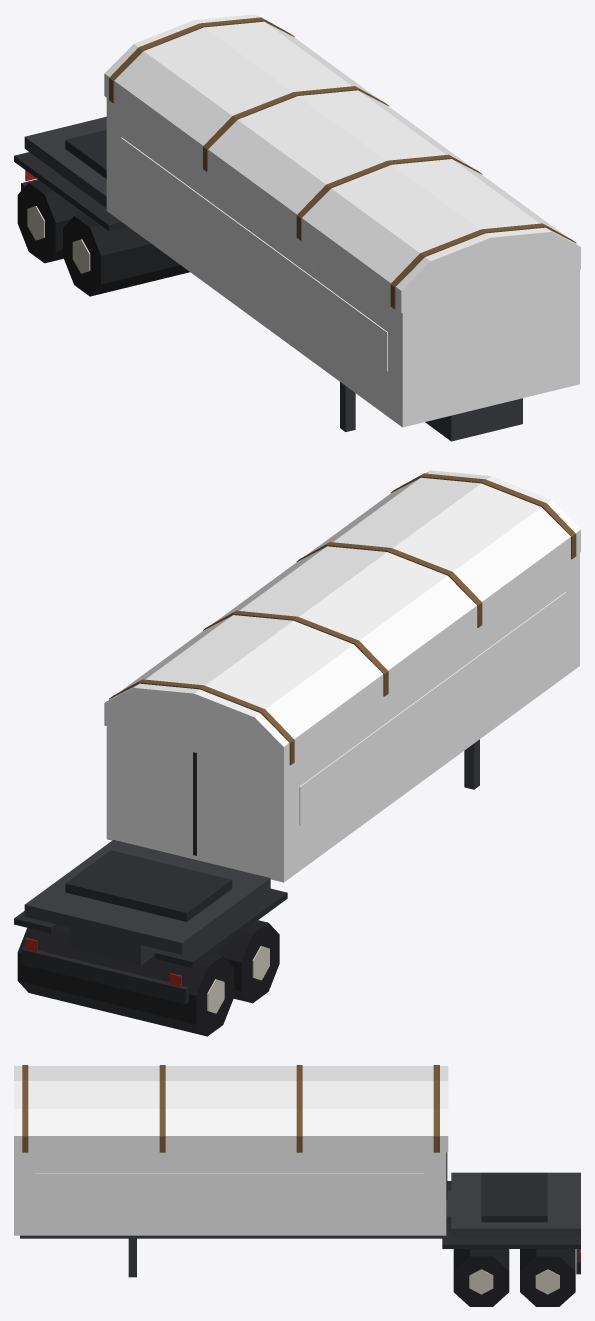
File: rt_truck_a.glb
The picture shows the model from 3 angles, top to bottom: view 1: azimuth 30°, elevation 25°; view 2: azimuth 150°, elevation 25°; view 3: azimuth 270°, elevation 25°; orthographic projection. The views are drawn at different scales.
Parts seen in each view (by area): view 1: model; view 2: model; view 3: model.
Boxes of the visible parts, box(x1,y1,x2,y2) form: model: box(14, 14, 580, 441); model: box(14, 470, 580, 1036); model: box(14, 1065, 580, 1306).
Bounding box in the file's own units: 2.54 × 3.56 × 9.4.
